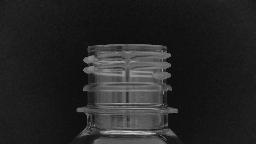No Cap: (72, 40, 180, 120)
